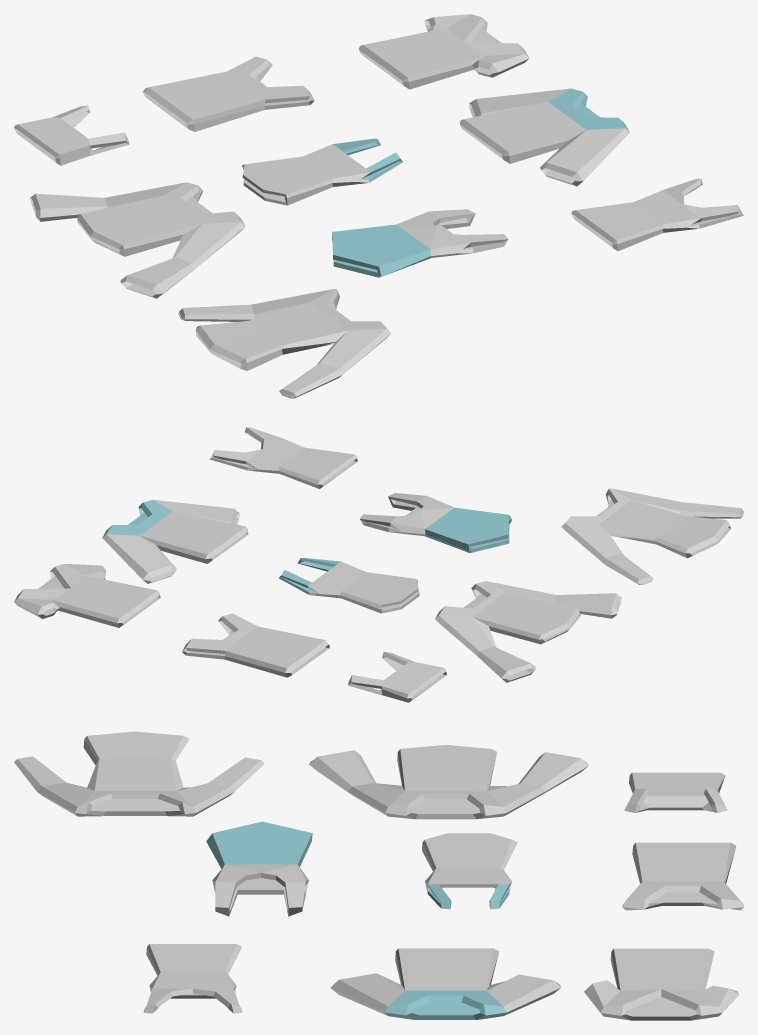
Rendered from set_shirts.fbx.
3 views of the same model, one above another, from view 1: azimuth 30°, elevation 25°; view 2: azimuth 150°, elevation 25°; view 3: azimuth 270°, elevation 25° (orthographic). The views are drawn at different scales.
Visible parts, largest first — view 1: Elf shirt, Olden shirt, Breezy shirt, V tee, Triangle shirt, Sleeveless shirt, Spagetti strap shirt, Party shirt, Crop top; view 2: Elf shirt, Olden shirt, Breezy shirt, V tee, Triangle shirt, Sleeveless shirt, Spagetti strap shirt, Party shirt, Crop top; view 3: Elf shirt, Olden shirt, Breezy shirt, V tee, Triangle shirt, Sleeveless shirt, Spagetti strap shirt, Party shirt, Crop top.
Boxes of the visible parts, x1,y1,x2,y2 form: Elf shirt: (30,182,245,298); Olden shirt: (178,289,391,398); Breezy shirt: (460,88,629,186); V tee: (358,14,529,89); Triangle shirt: (332,209,508,277); Sleeveless shirt: (142,56,314,131); Spagetti strap shirt: (242,138,402,205); Party shirt: (571,178,743,251); Crop top: (14,105,129,165); Elf shirt: (435,581,621,682); Olden shirt: (561,488,743,585); Breezy shirt: (102,500,248,583); V tee: (14,564,160,627); Triangle shirt: (359,493,511,553); Sleeveless shirt: (182,613,329,677); Spagetti strap shirt: (279,558,419,613); Party shirt: (209,427,357,488); Crop top: (348,651,446,702); Elf shirt: (309,745,588,819); Olden shirt: (14,731,264,816); Breezy shirt: (330,948,560,1019); V tee: (584,948,739,1020); Triangle shirt: (206,821,312,916); Sleeveless shirt: (622,842,743,910); Spagetti strap shirt: (422,833,517,909); Party shirt: (143,944,242,1013); Crop top: (624,772,727,812).
Bounding box in the file's own units: 11.04 × 0.552 × 12.07.
